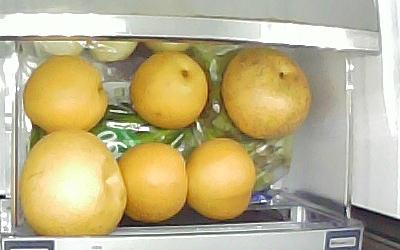pear: (21, 131, 126, 236), (222, 48, 313, 139), (22, 54, 109, 135), (131, 51, 207, 130), (116, 141, 187, 223), (186, 138, 256, 220)
